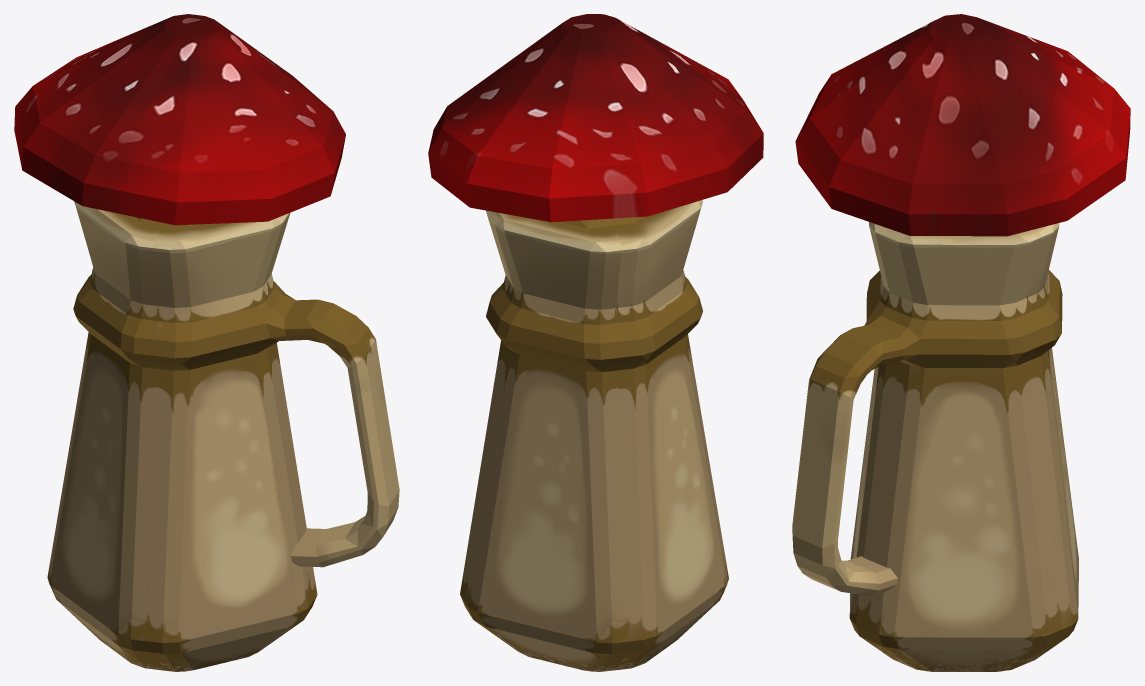
The model's file is potion_red.fbx.
3 renders of one model, left to right at view 1: azimuth 30°, elevation 25°; view 2: azimuth 150°, elevation 25°; view 3: azimuth 270°, elevation 25°, orthographic.
Parts seen in each view (by area): view 1: red potion; view 2: red potion; view 3: red potion.
Boxes of the visible parts, x1,y1,x2,y2 form: red potion: (14,14,399,671); red potion: (428,14,763,671); red potion: (792,14,1130,671).
Size of the model in its own units: 12.41 by 12.53 by 25.2.
